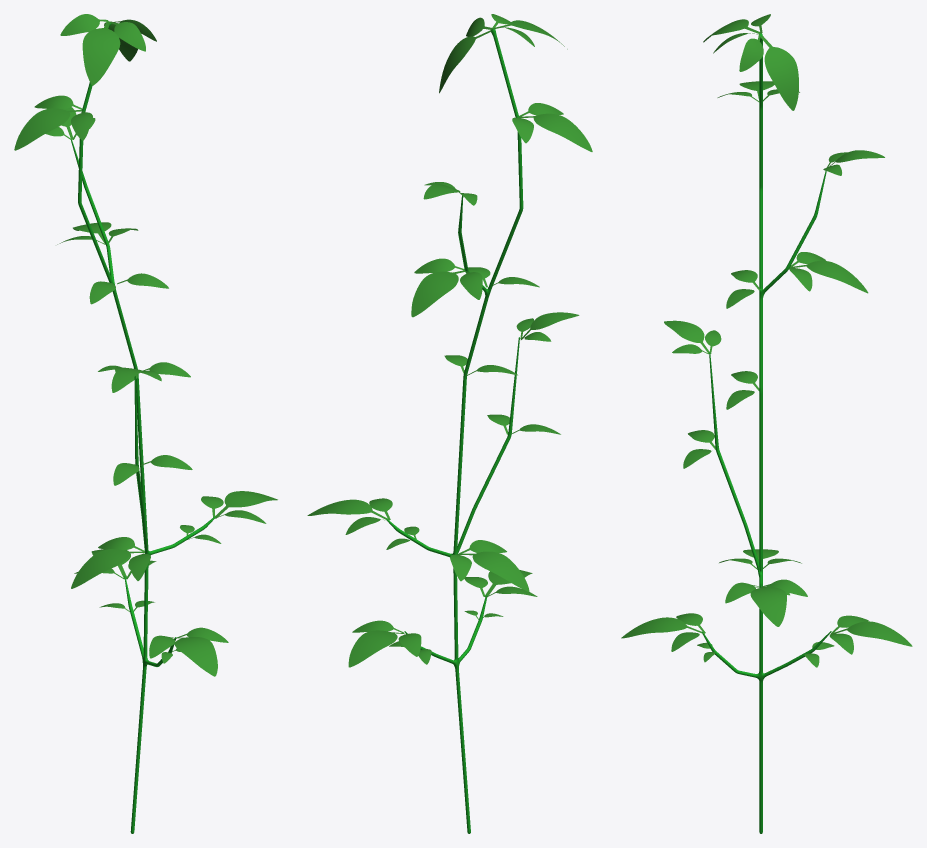
Rendered from Stage3_Geum_1.fbx.
3 renders of one model, left to right at view 1: azimuth 30°, elevation 25°; view 2: azimuth 150°, elevation 25°; view 3: azimuth 270°, elevation 25°, orthographic. The views are drawn at different scales.
Visible parts, largest first — view 1: Plane, Circle.059, Circle.056, Circle.032, Circle.038, Circle.029, Circle.003, Circle.053; view 2: Plane, Circle.053, Circle.032, Circle.035, Circle.056, Circle.029, Circle.003, Circle.001, Circle.038, Circle.059, Circle.002; view 3: Plane, Circle.003, Circle.029, Circle.035, Circle.053, Circle.038, Circle.001, Circle.059, Circle.002.
Boxes of the visible parts, <box> form: Plane: <box>71,23,215,833</box>; Circle.059: <box>60,14,145,85</box>; Circle.056: <box>14,95,92,150</box>; Circle.032: <box>71,537,150,588</box>; Circle.038: <box>149,627,228,676</box>; Circle.029: <box>201,491,277,523</box>; Circle.003: <box>104,19,156,61</box>; Circle.053: <box>57,222,138,244</box>; Plane: <box>387,29,523,833</box>; Circle.053: <box>411,258,482,317</box>; Circle.032: <box>450,540,529,591</box>; Circle.035: <box>348,620,421,667</box>; Circle.056: <box>512,103,592,151</box>; Circle.029: <box>307,498,392,534</box>; Circle.003: <box>439,17,492,93</box>; Circle.001: <box>516,312,579,341</box>; Circle.038: <box>464,570,537,597</box>; Circle.059: <box>491,14,567,49</box>; Circle.002: <box>423,182,477,205</box>; Plane: <box>702,33,831,833</box>; Circle.003: <box>739,34,798,110</box>; Circle.029: <box>725,579,807,626</box>; Circle.035: <box>829,615,912,654</box>; Circle.053: <box>789,252,868,293</box>; Circle.038: <box>621,613,705,651</box>; Circle.001: <box>664,320,721,354</box>; Circle.059: <box>703,14,770,53</box>; Circle.002: <box>823,150,884,175</box>.
Bounding box in the file's own units: 3180 × 9112 × 3017.
